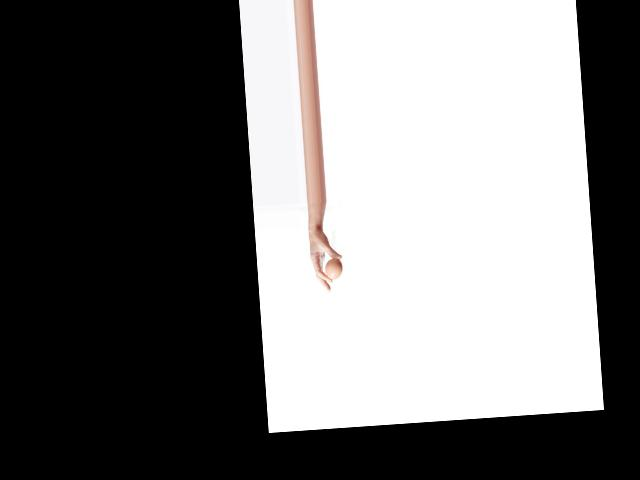egg: (325, 257, 343, 279)
